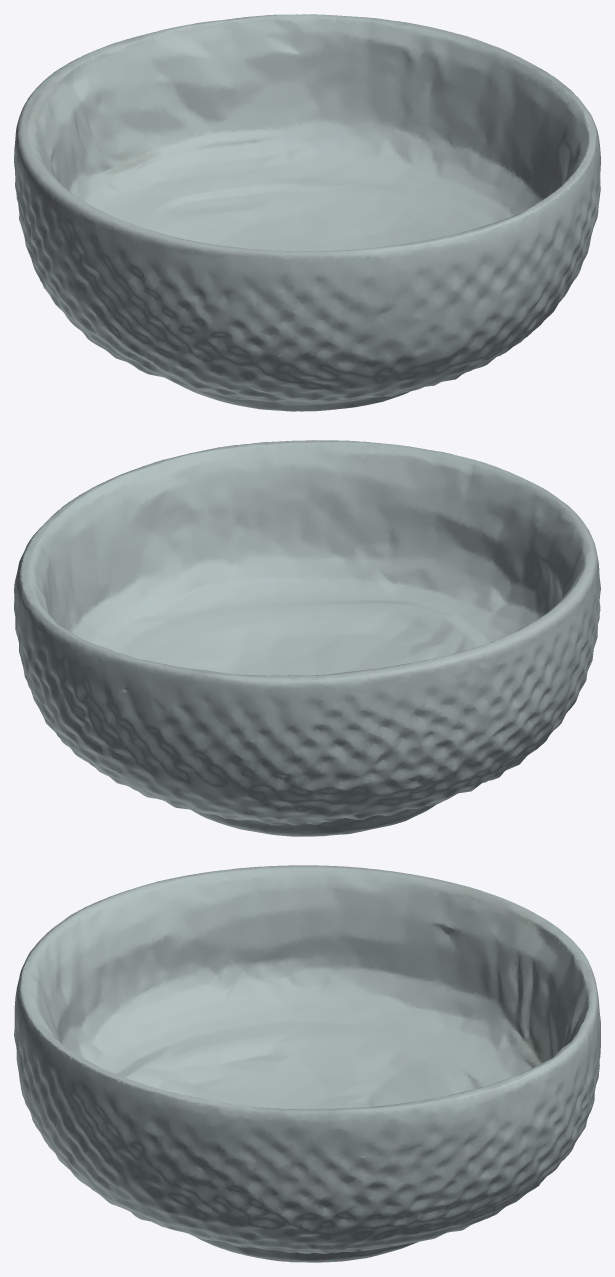
File: Threshold_Bead_Cereal_Bowl_White.glb
3 renders of one model, top to bottom at view 1: azimuth 30°, elevation 25°; view 2: azimuth 150°, elevation 25°; view 3: azimuth 270°, elevation 25°, orthographic.
Parts seen in each view (by area): view 1: geometry_0; view 2: geometry_0; view 3: geometry_0.
Part boxes in pixels (<box>): geometry_0: <box>14,14,600,411</box>; geometry_0: <box>14,440,600,836</box>; geometry_0: <box>14,865,600,1262</box>.
Size of the model in its own units: 0.9895 by 0.4183 by 1.
1 material, 1 textured.
